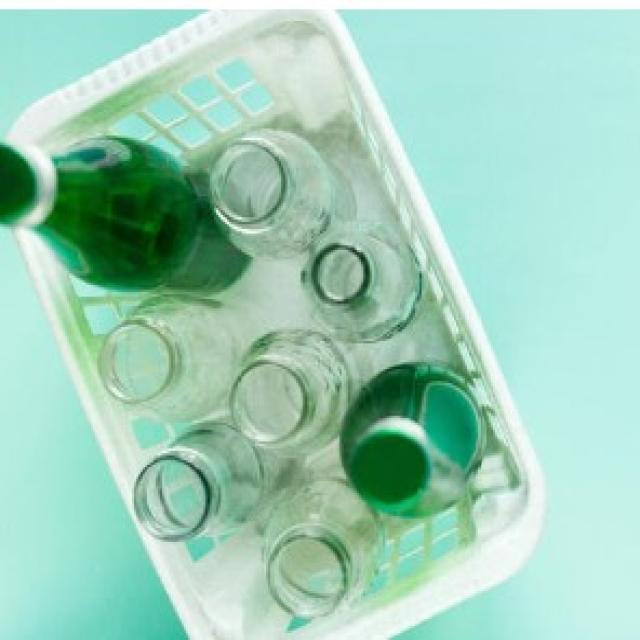electronic: (0, 128, 482, 624)
